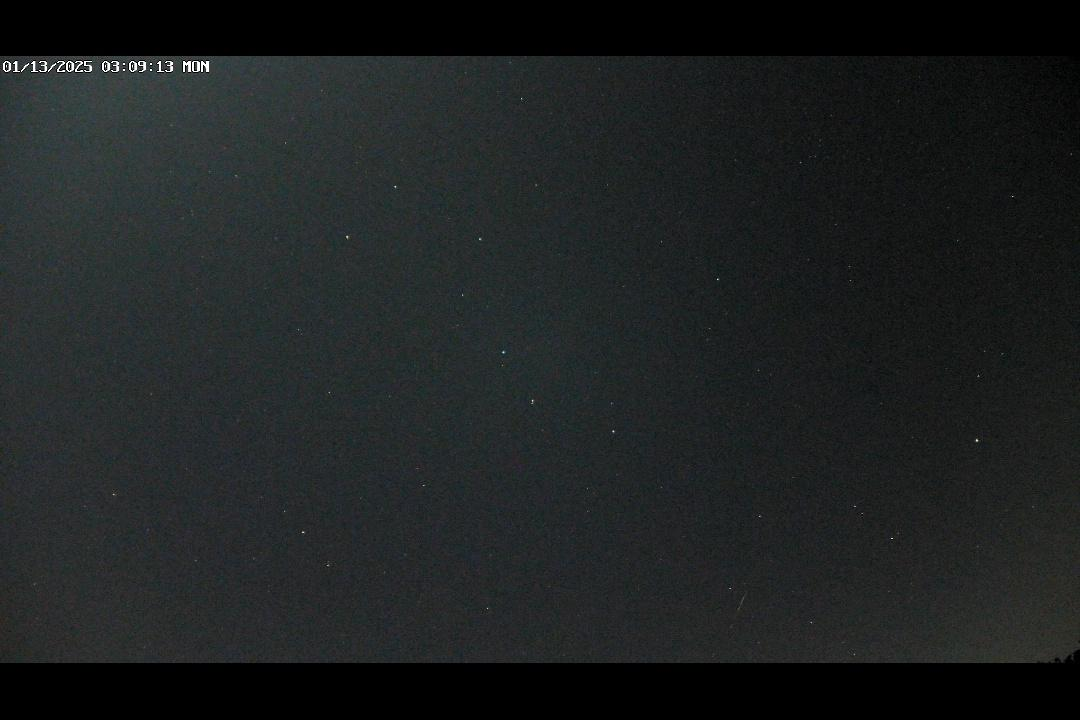meteorite: (726, 582, 759, 623)
